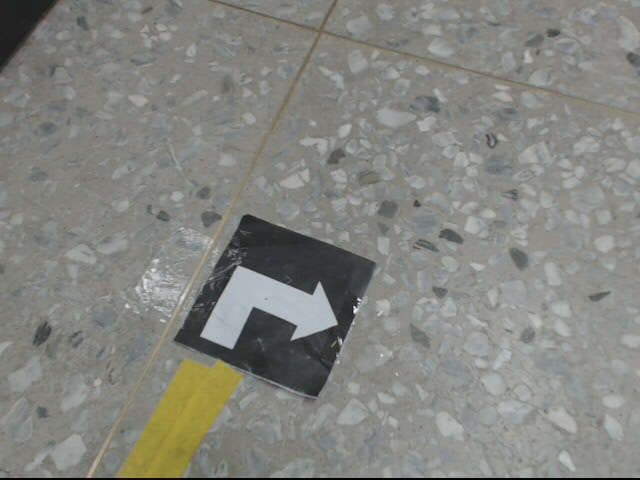right: (174, 213, 376, 400)
